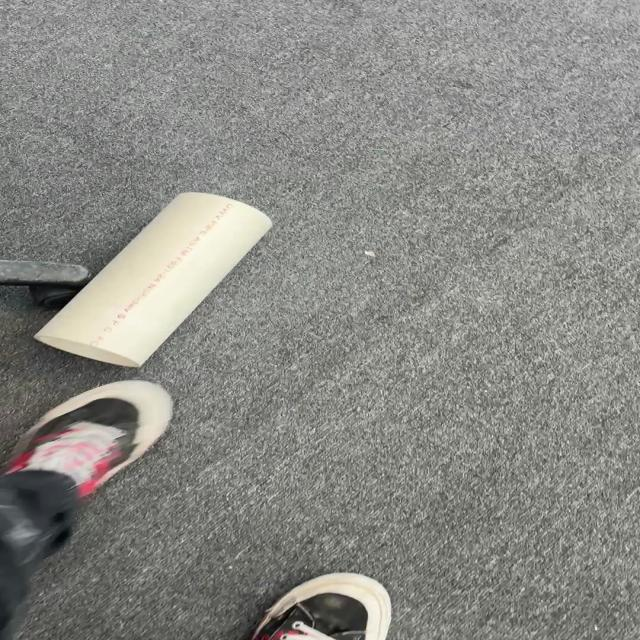Coral: (32, 190, 274, 368)
